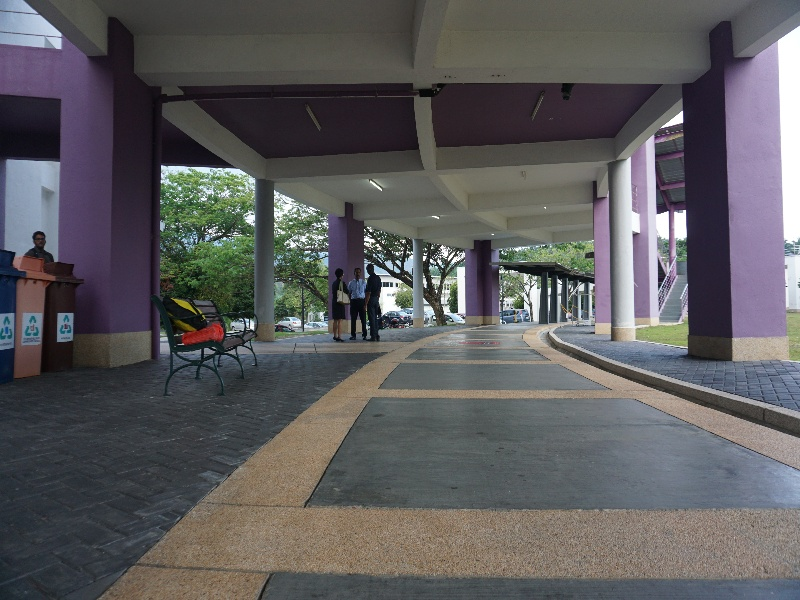Block D Pillar 2: (2, 2, 800, 507)
person: (321, 261, 353, 343), (358, 264, 389, 346)
pillar: (686, 37, 798, 382), (57, 24, 161, 381), (241, 168, 290, 353)
